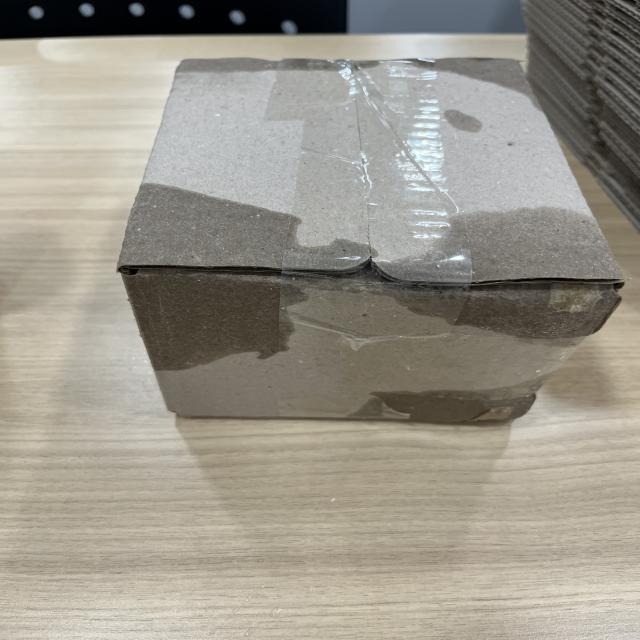wet: (402, 190, 625, 353), (111, 177, 309, 360), (374, 384, 540, 434), (172, 48, 394, 84), (412, 47, 552, 101)
